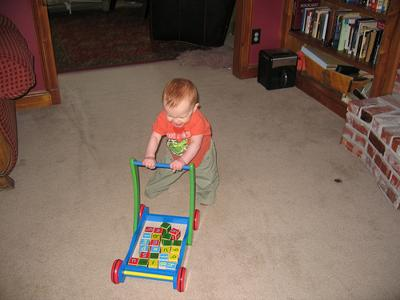person: (142, 78, 219, 207)
